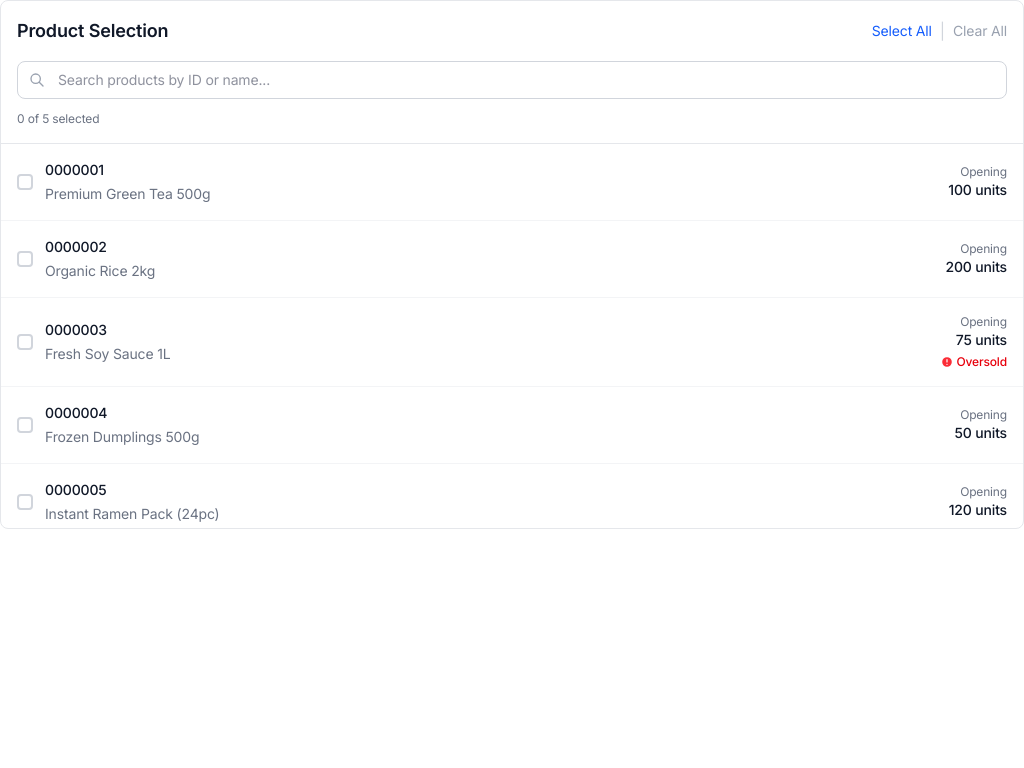
ProductSelector › Search Functionality › should filter products by product name (case insensitive)
Type "rice" into the field with placeholder "Search products by ID or name..." at (512, 80), box left=17, top=61, right=1007, bottom=99
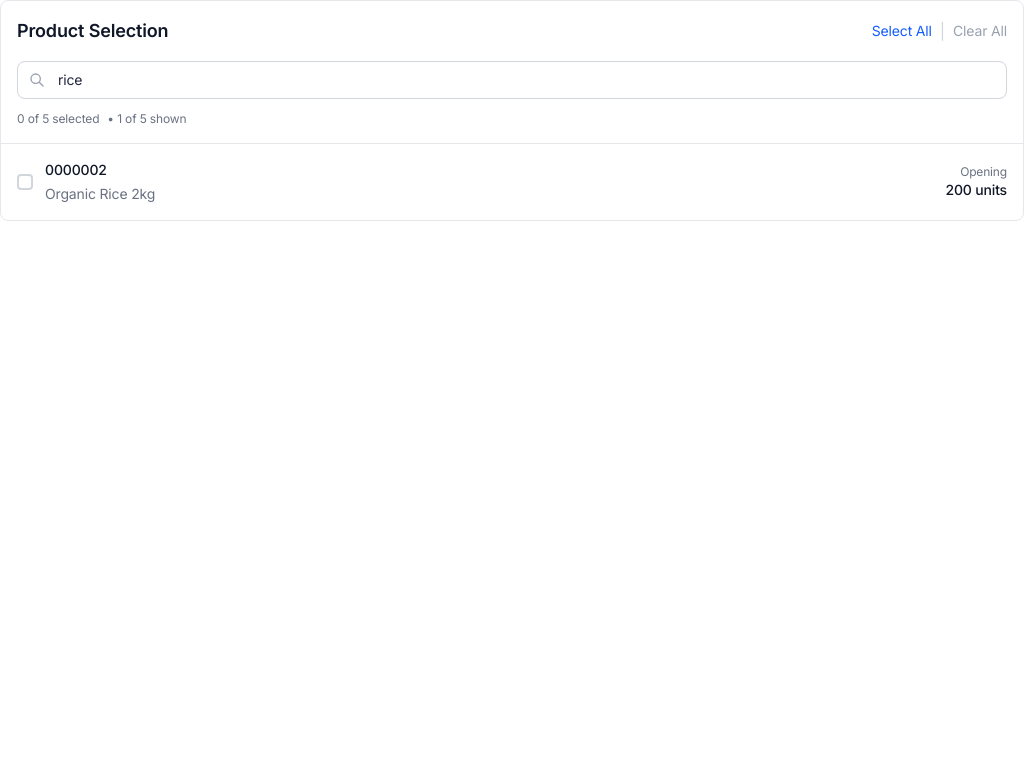
Expected: the text "Organic Rice 2kg" is shown, left=45, top=184, right=155, bottom=204
Expected: the text "Premium Green Tea 500g" is gone
